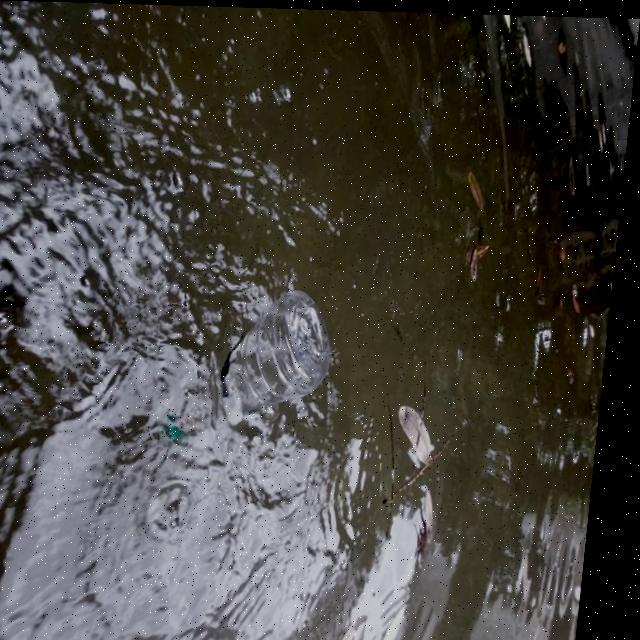leaf: (386, 404, 457, 481), (397, 499, 477, 566), (457, 214, 509, 285), (454, 160, 497, 210)
waterbottle: (163, 273, 359, 473)
